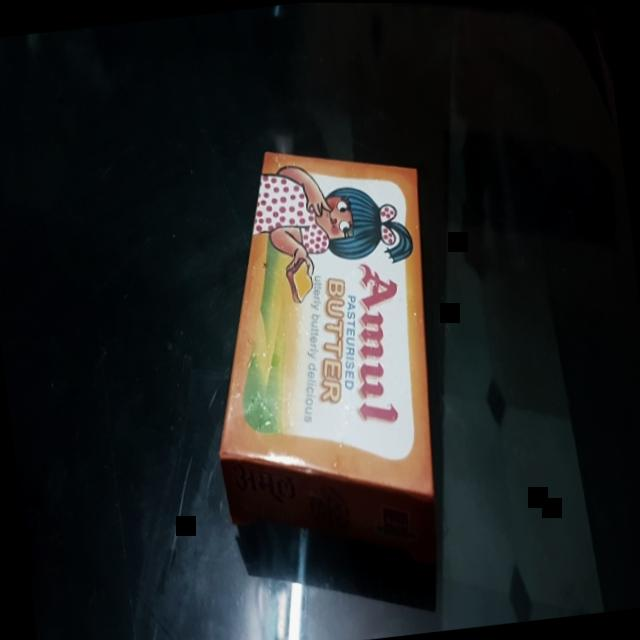butter: (190, 124, 472, 586)
